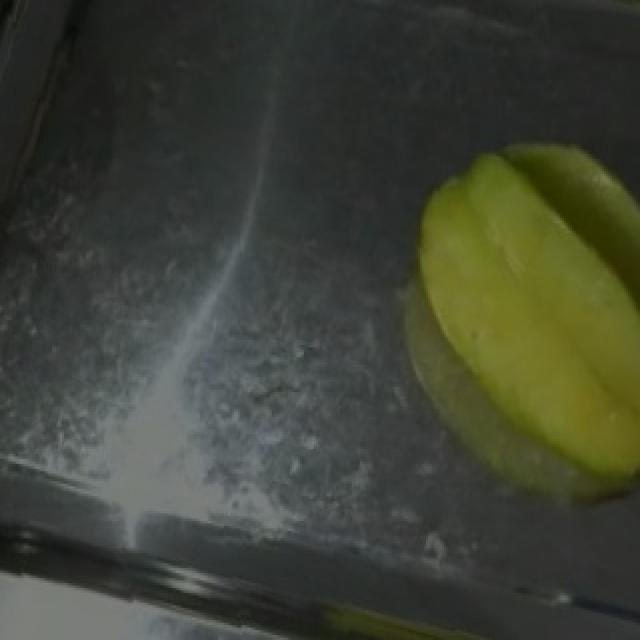fruit: (380, 124, 640, 516)
